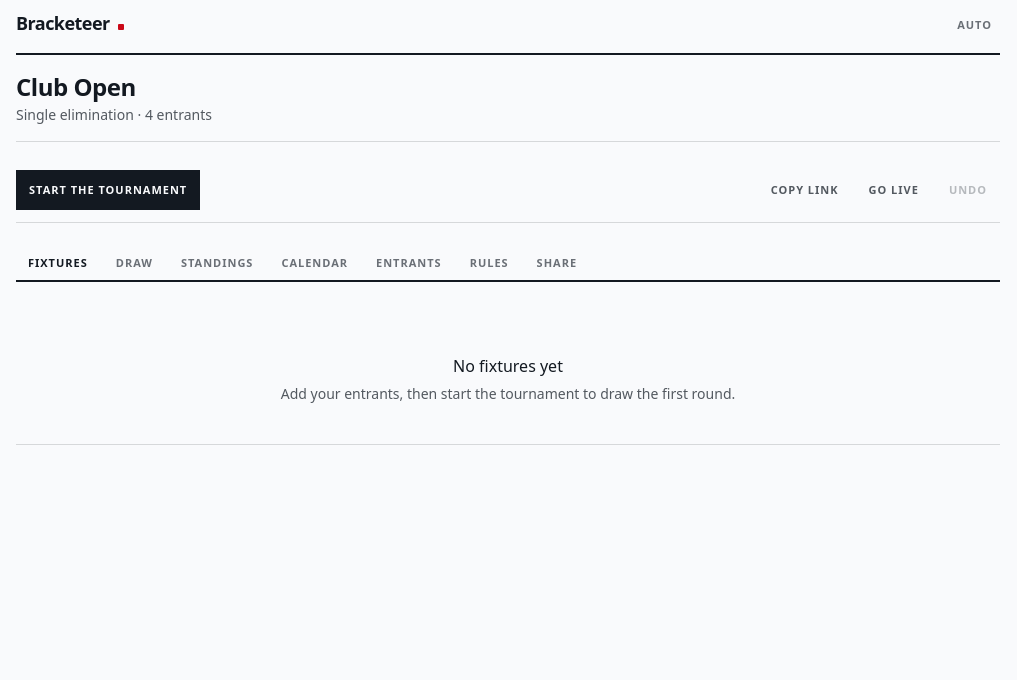
it: running a tournament › draws the bracket and then asks for scores
Step 1. Click the button "Start the tournament" → click(108, 190), box x1=16 y1=170 x2=200 y2=210
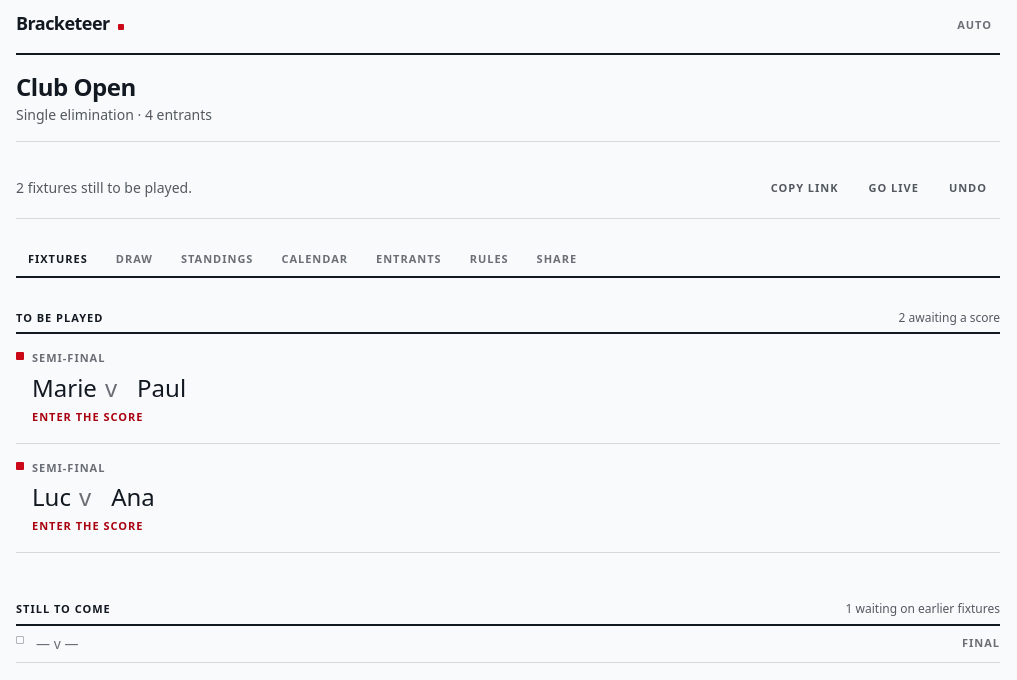
Now the text "2 awaiting a score" is shown, box x1=899 y1=310 x2=1000 y2=326
